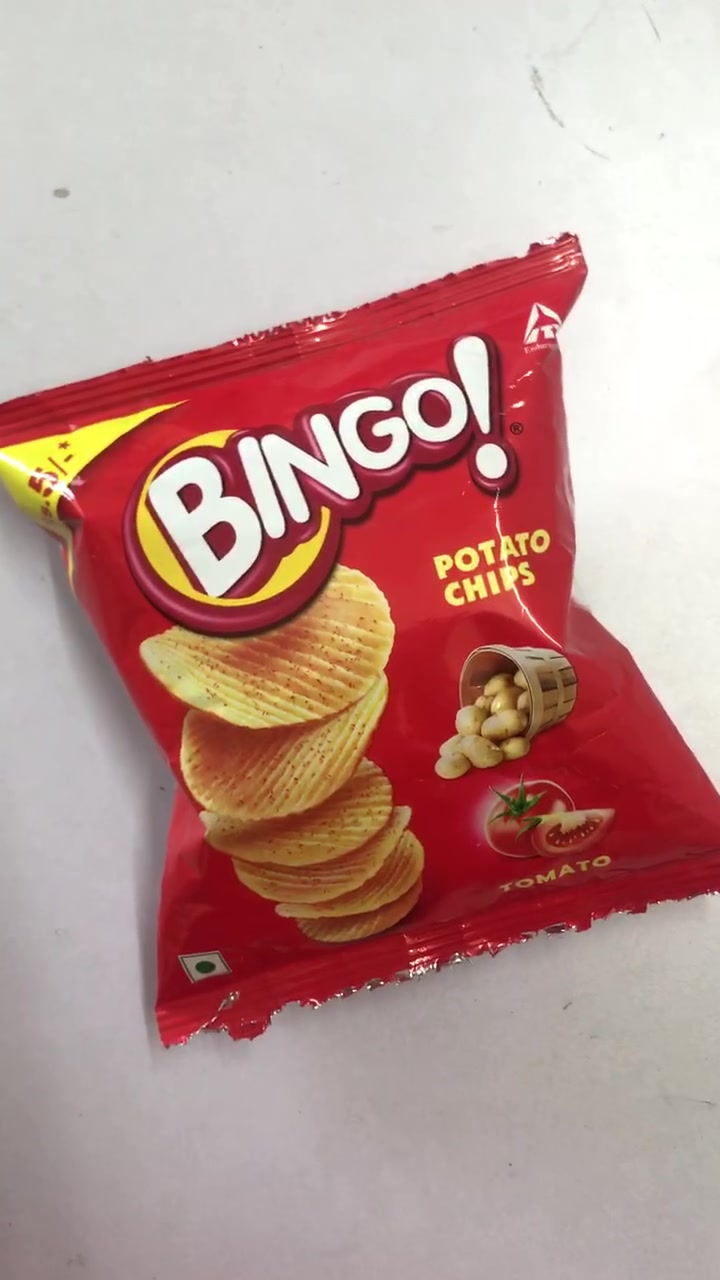Bingo: (3, 243, 720, 1031)
